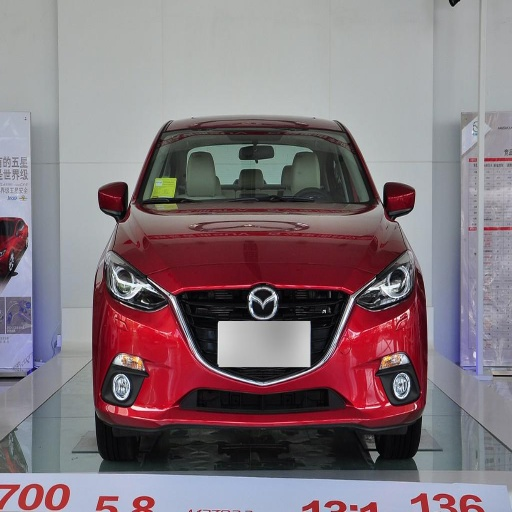back_right_light: (94, 267, 424, 430)
front_bumper: (139, 132, 373, 212)
front_left_door: (355, 261, 414, 310)
front_right_door: (101, 252, 166, 310)
front_right_light: (117, 202, 391, 292)
hood: (383, 181, 415, 218)
left_mirror: (98, 182, 127, 219)
trunk: (362, 423, 419, 463), (97, 421, 141, 458)
